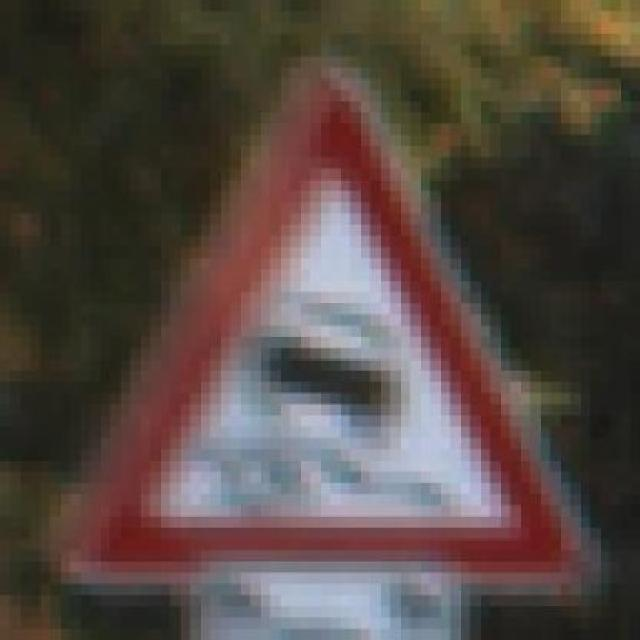Slippery Road Ahead: (70, 45, 590, 606)
